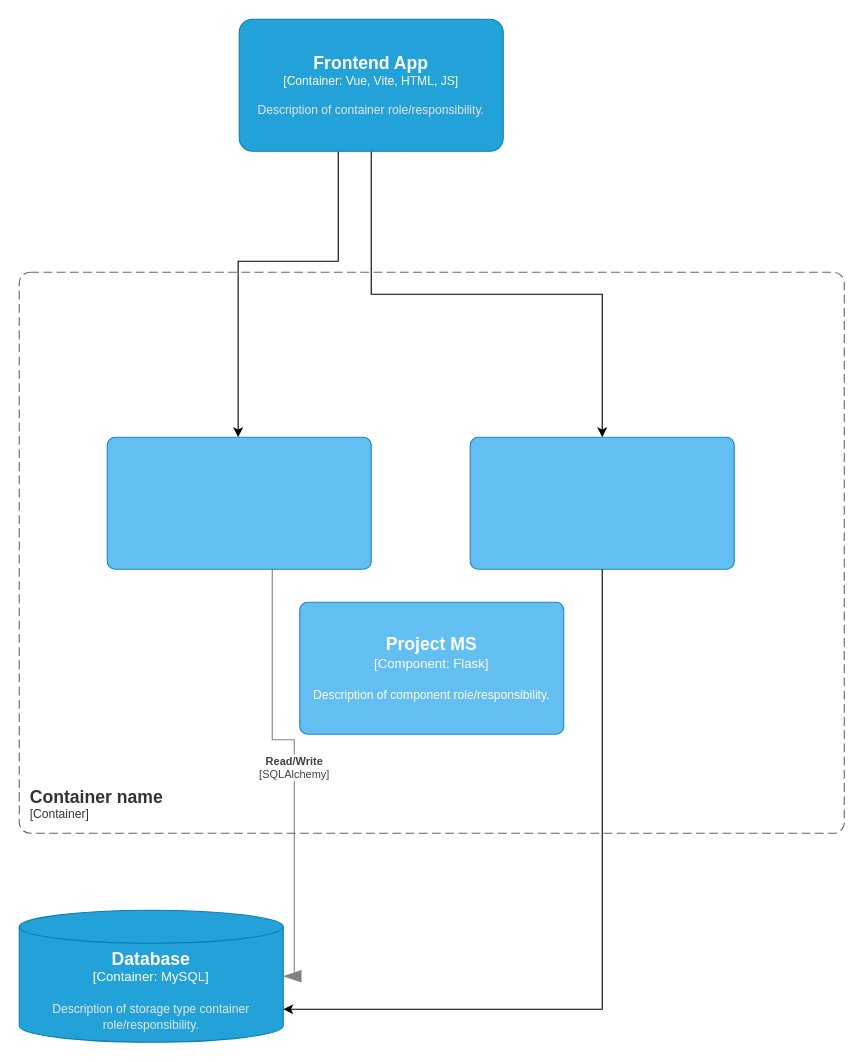
Image size: 864x1062. Some labels were removed from this diagram. The centre of each missing label's shape, as x and y in pixels:
Login MS [Component: Flask] Description of component role/responsibility.: the point at 238,502
Task MS [Component: Flask] Description of component role/responsibility.: the point at 601,502
